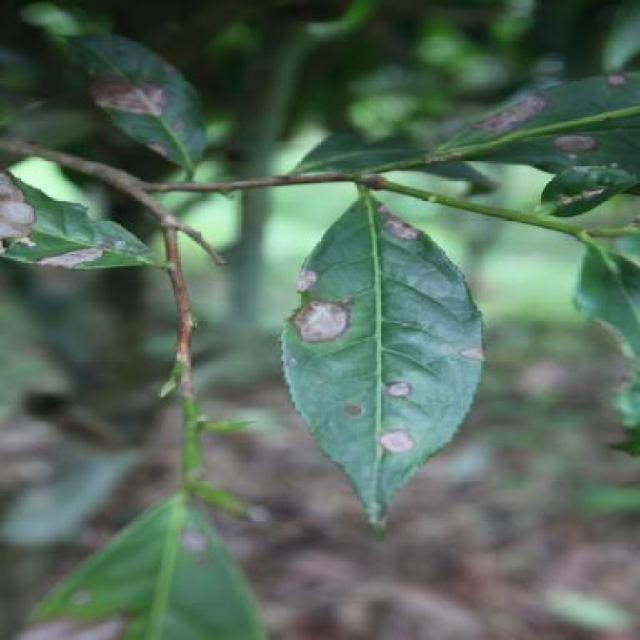Leaf rust of tea: (240, 202, 454, 522), (363, 69, 640, 174), (57, 41, 225, 172), (6, 165, 166, 297)
